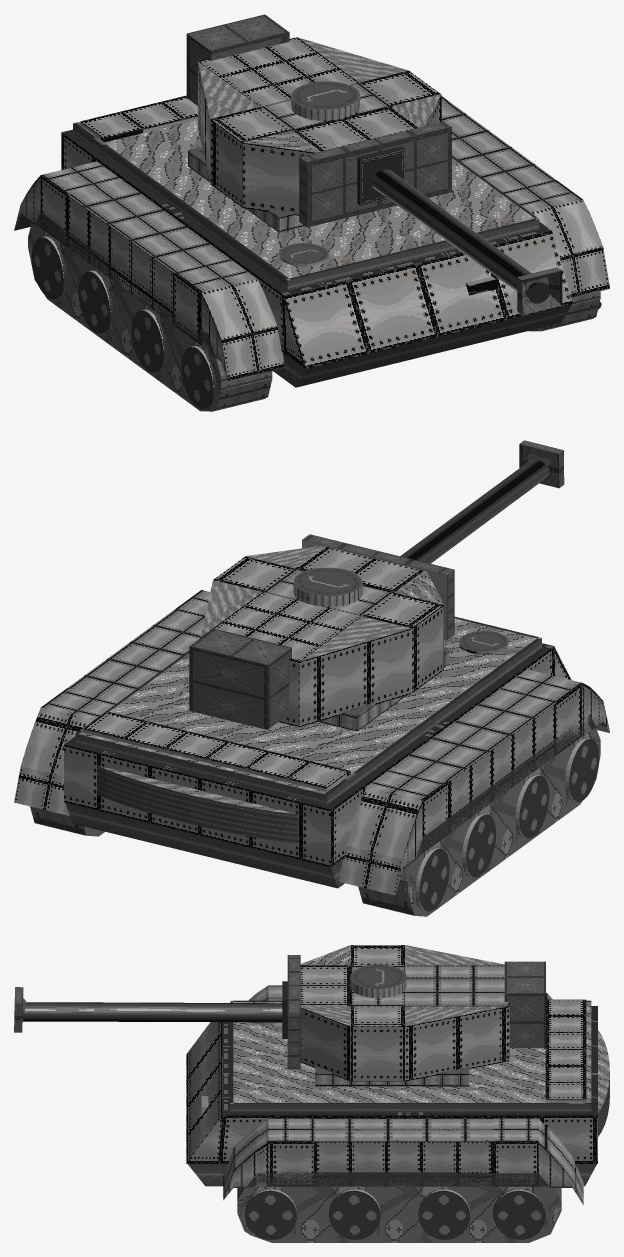
File: TankImproved.fbx
3 renders of one model, top to bottom at view 1: azimuth 30°, elevation 25°; view 2: azimuth 150°, elevation 25°; view 3: azimuth 270°, elevation 25°, orthographic. The views are drawn at different scales.
Visible parts, largest first — view 1: Cube, Cube.003, Cube.002, Cube.001; view 2: Cube, Cube.003, Cube.002, Cube.001; view 3: Cube.003, Cube, Cube.002, Cube.001.
Boxes of the visible parts, box(x1,y1,x2,y2) form: Cube: box(61, 95, 572, 387); Cube.003: box(14, 96, 609, 411); Cube.002: box(186, 14, 451, 227); Cube.001: box(372, 169, 562, 315); Cube: box(64, 616, 571, 888); Cube.003: box(14, 590, 609, 916); Cube.002: box(189, 534, 454, 729); Cube.001: box(400, 440, 564, 563); Cube.003: box(223, 985, 583, 1242); Cube: box(186, 999, 609, 1186); Cube.002: box(282, 945, 545, 1081); Cube.001: box(14, 987, 282, 1032).
Size of the model in its own units: 104 by 56.9 by 164.
